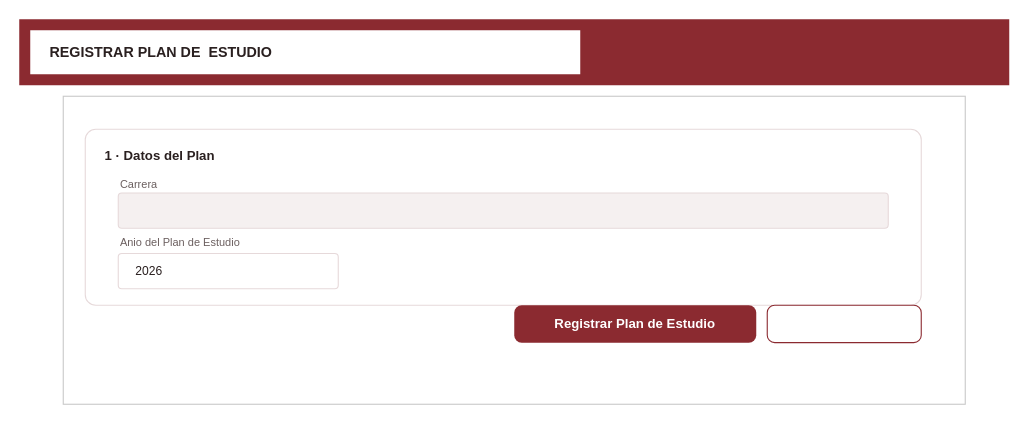
The diagram is 1027 pixels wide and 424 high, and some of its shapes have lost their labels. The centre of each missing label's shape, as x and y in pixels:
Cancelar: (x=843, y=323)
Licenciatura en Analisis de Sistemas: (x=502, y=210)
